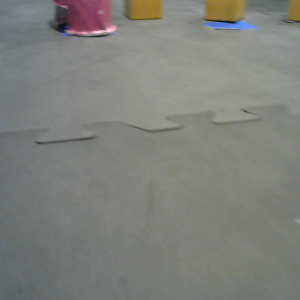middle: (53, 1, 117, 36)
